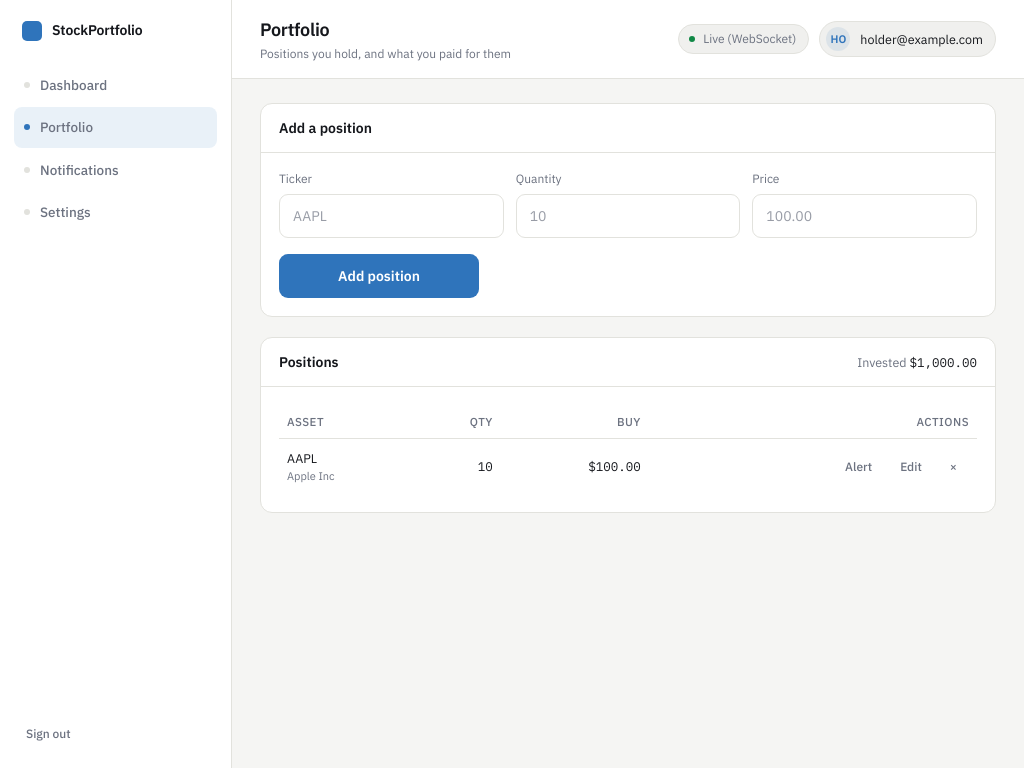
Test: ticker search › fills the field when a suggestion is picked
Check: the heading "Portfolio" is shown, box top-left (260, 18), bottom-right (330, 41)
Step 1. Type "appl" into the dropdown labelled "Ticker" → (391, 216), box top-left (279, 194), bottom-right (504, 238)
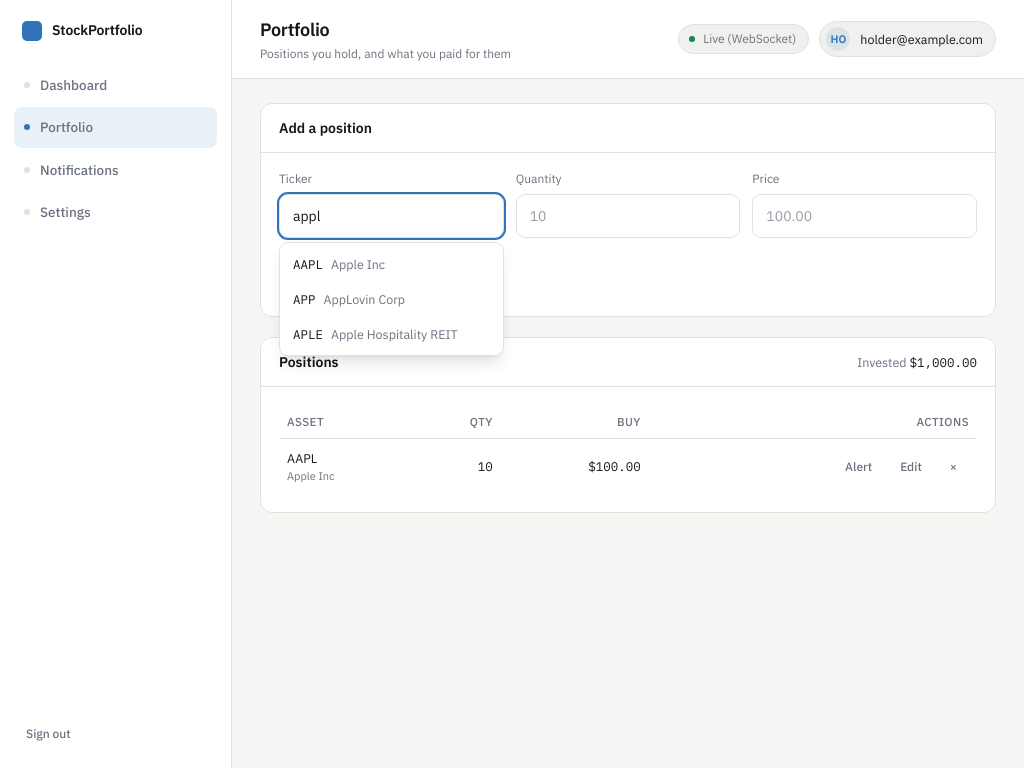
Check: the text "Apple Inc" below "Ticker" is shown, box top-left (331, 256), bottom-right (385, 272)
Step 2. Click the option "AAPL Apple Inc" → (339, 264), box top-left (293, 256), bottom-right (385, 272)
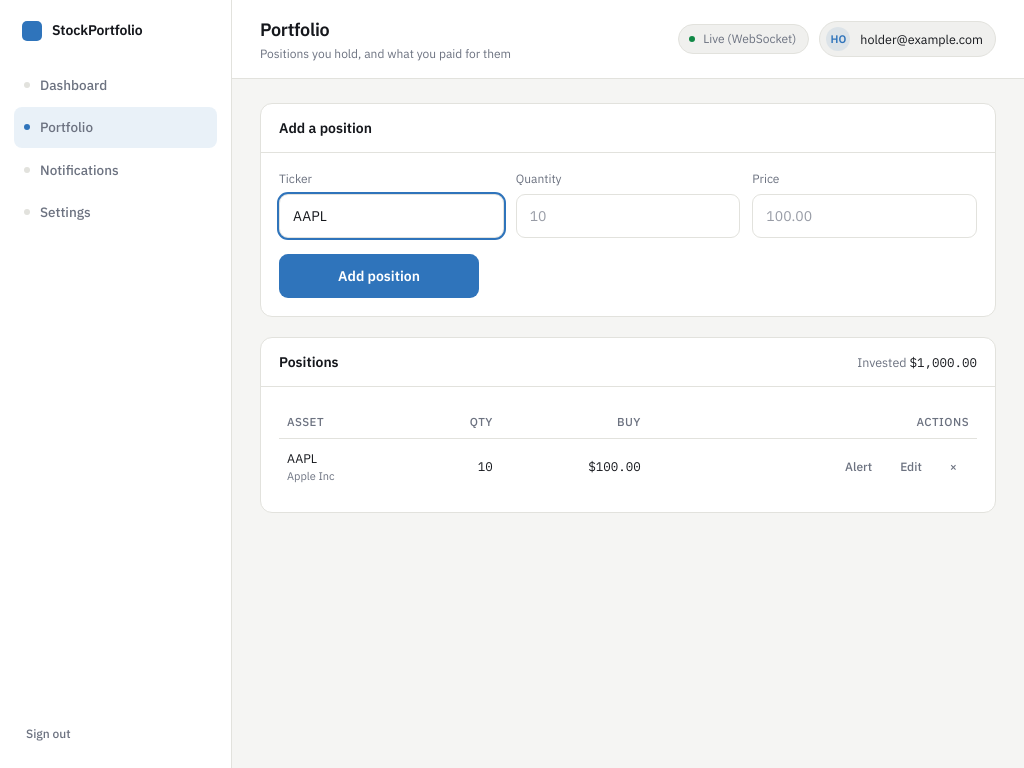
Check: the dropdown labelled "Ticker" holds "AAPL", box top-left (279, 194), bottom-right (504, 238)
Check: the list is gone
Check: the dropdown labelled "Ticker" is collapsed, box top-left (279, 194), bottom-right (504, 238)
